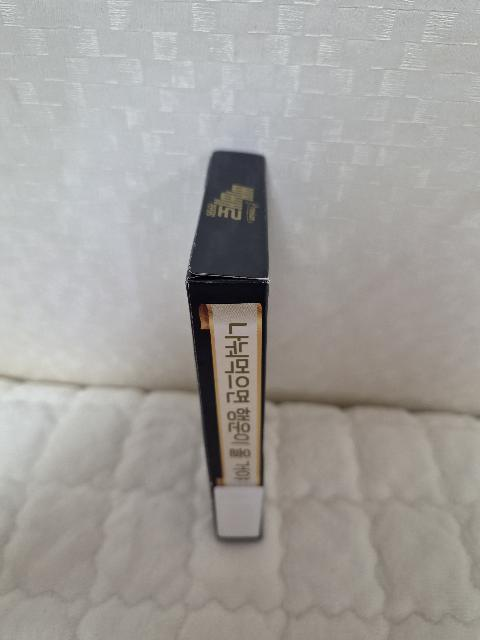pepero: (185, 151, 269, 542)
